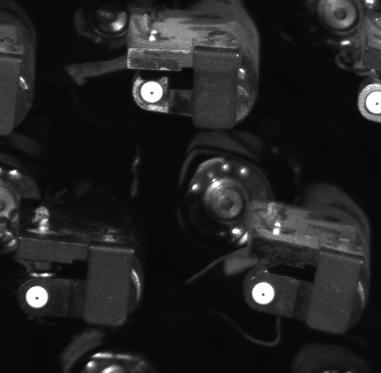fiber: (247, 276, 280, 309), (134, 78, 169, 108), (23, 283, 54, 313), (358, 88, 381, 117)
